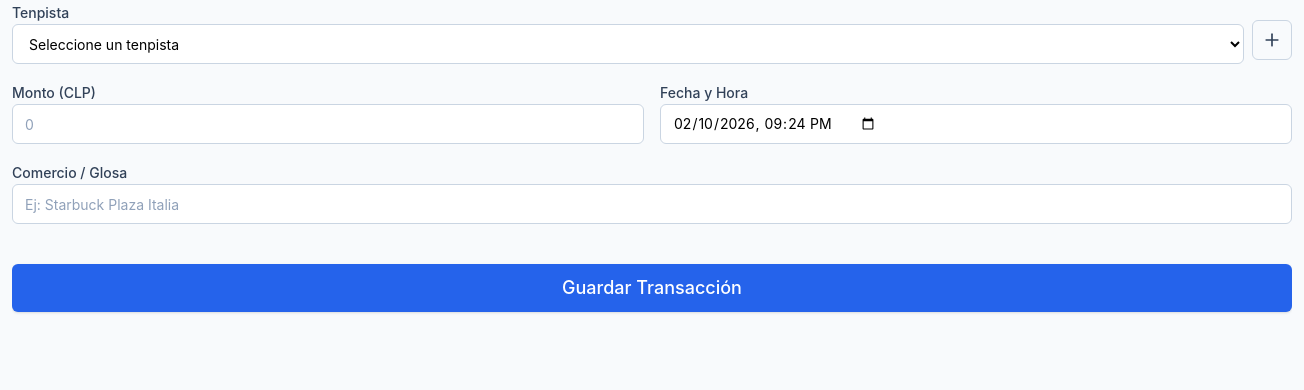
Test case: TransactionForm Component › shows validation errors for empty fields
Click the button "Guardar Transacción" at (652, 288), box 12,264 -> 1292,312
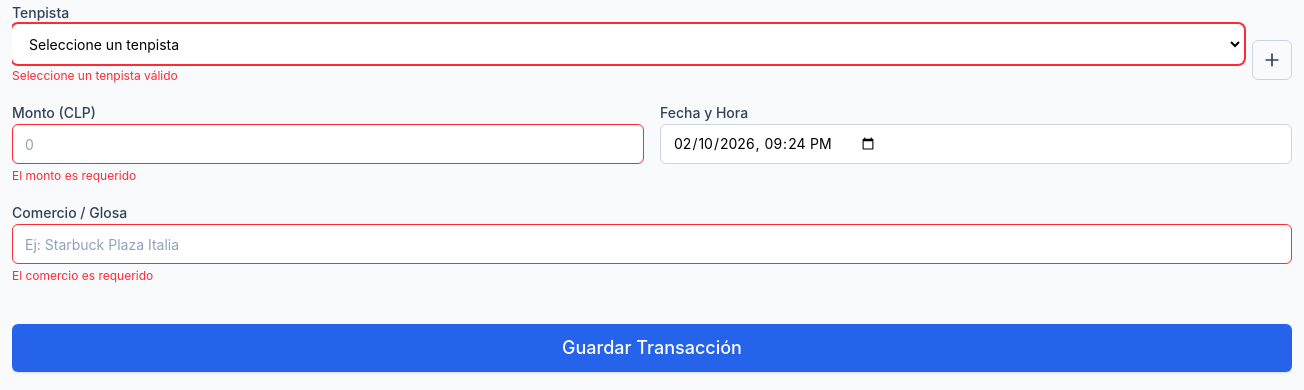
Expected: the text "Seleccione un tenpista válido" is shown, 12,68 -> 178,83
Expected: the text "El comercio es requerido" is shown, 12,268 -> 153,283
